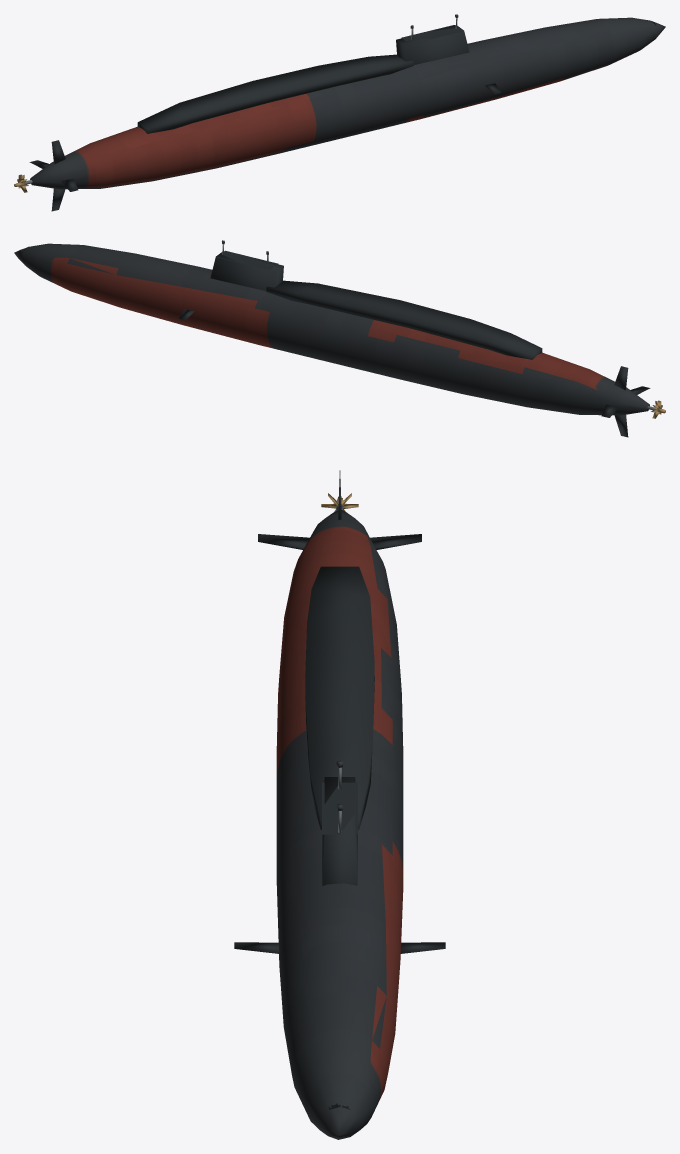
The model's file is RU_SSBN_DeltaI_LOD3.fbx.
3 views of the same model, one above another, from view 1: azimuth 30°, elevation 25°; view 2: azimuth 150°, elevation 25°; view 3: azimuth 270°, elevation 25° (orthographic). The views are drawn at different scales.
Visible parts, largest first — view 1: RU_SSBN_DeltaI_LOD3; view 2: RU_SSBN_DeltaI_LOD3; view 3: RU_SSBN_DeltaI_LOD3.
Boxes of the visible parts, x1,y1,x2,y2 form: RU_SSBN_DeltaI_LOD3: (14,14,665,211); RU_SSBN_DeltaI_LOD3: (14,240,665,437); RU_SSBN_DeltaI_LOD3: (234,470,445,1139).
Bounding box in the file's own units: 143 × 20.06 × 20.47.
Materials: 6 (1 with a texture image).
